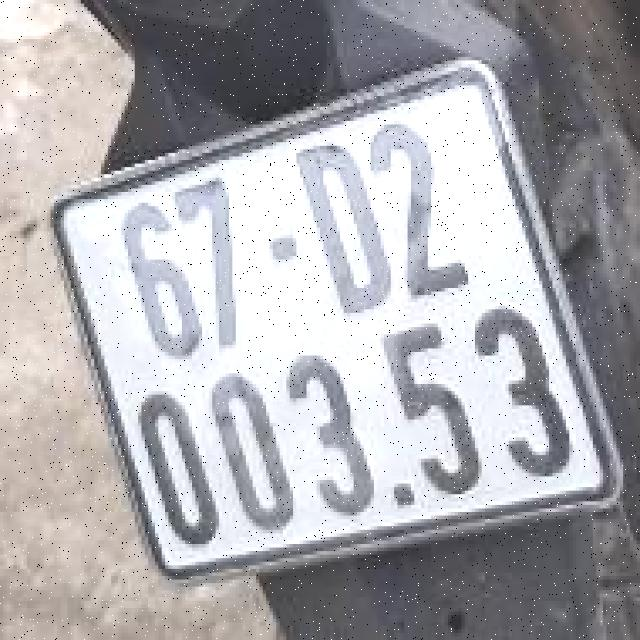0: (195, 357, 304, 546), (113, 384, 224, 562)
2: (366, 114, 476, 295)
3: (280, 323, 380, 530), (477, 293, 578, 482)
5: (382, 311, 487, 493)
6: (123, 188, 214, 366)
7: (182, 158, 256, 350)
D: (290, 130, 394, 318)
